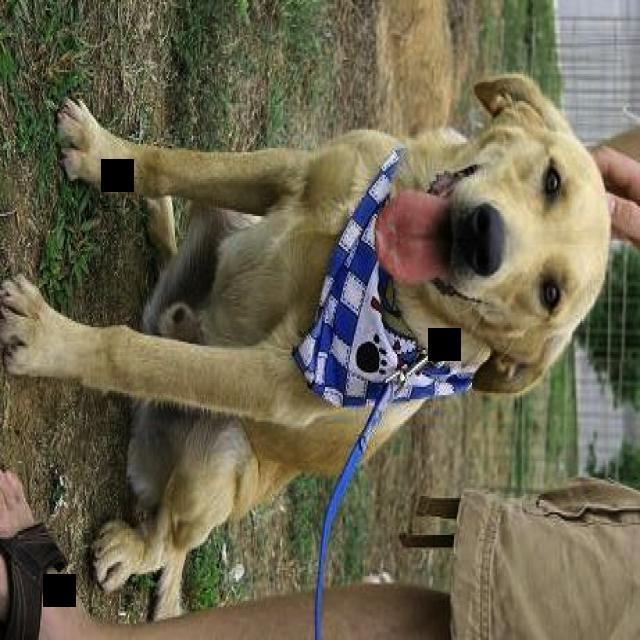adult_dog: (0, 66, 604, 596)
